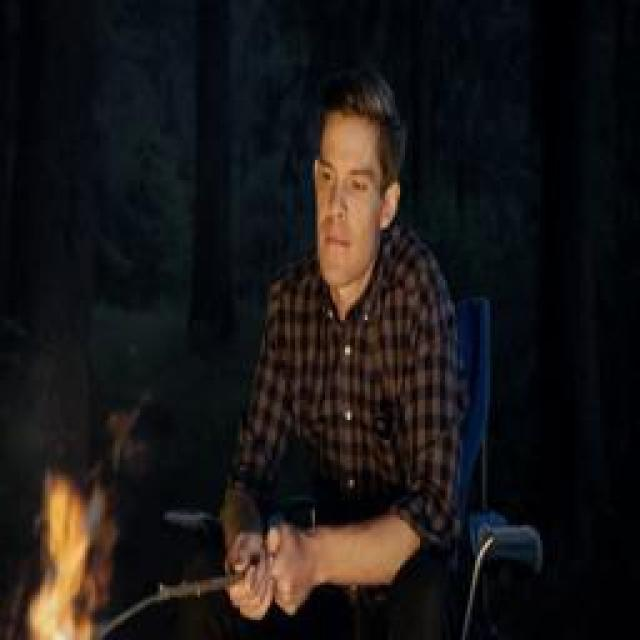Fire: (24, 472, 96, 640)
